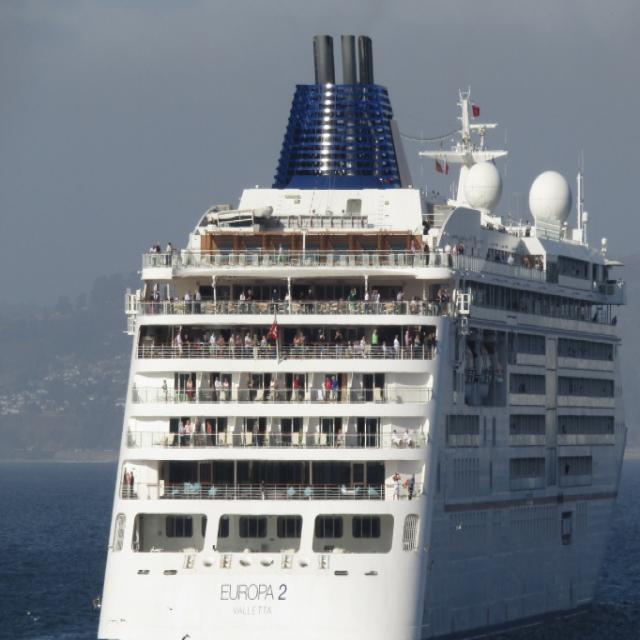cruises: (89, 5, 639, 640)
